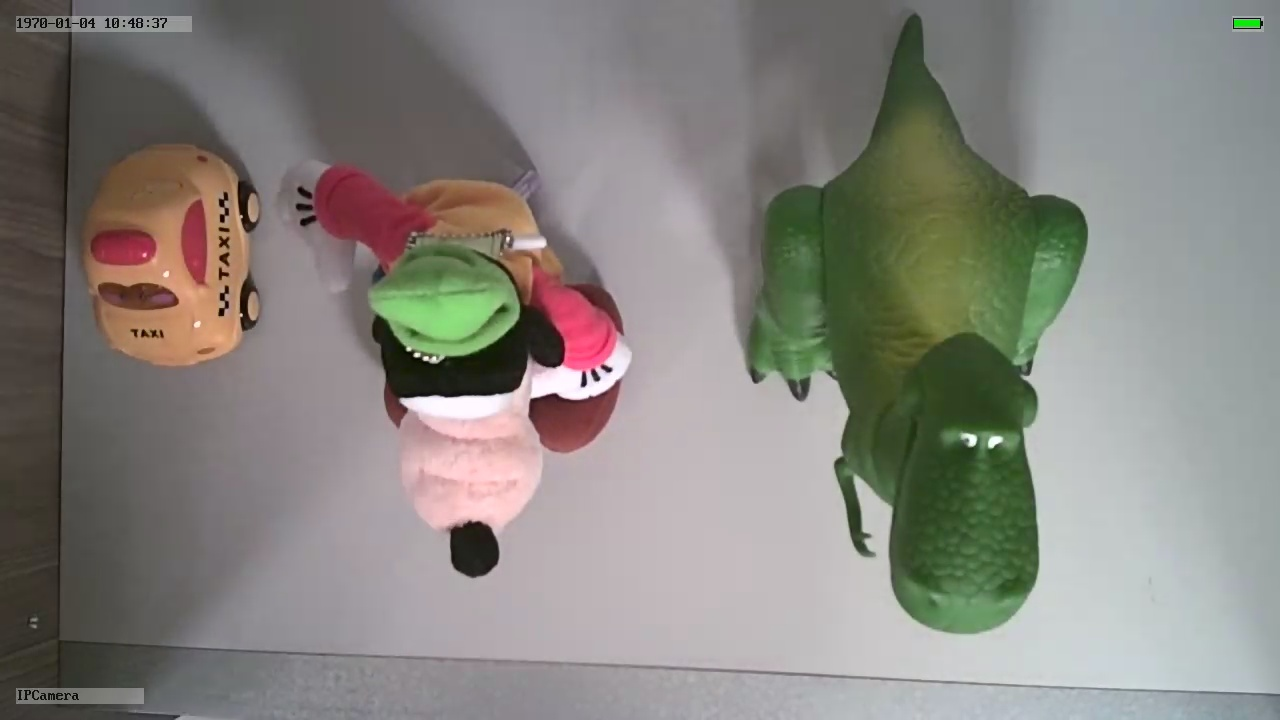car: (78, 134, 264, 366)
goofy: (272, 156, 633, 578)
rex: (748, 102, 1089, 633)
